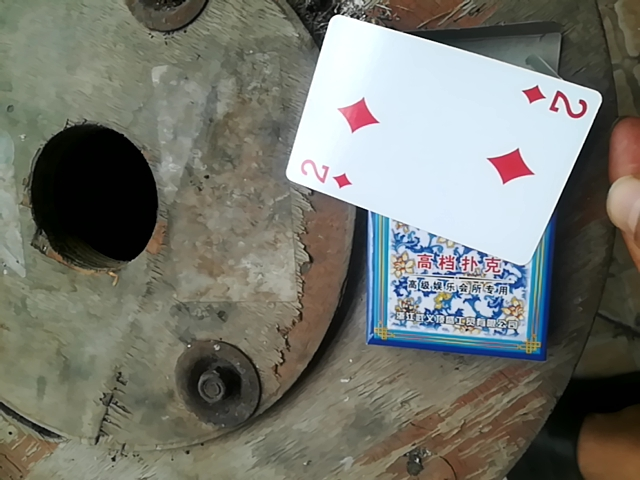fk 2: (279, 16, 611, 274)
